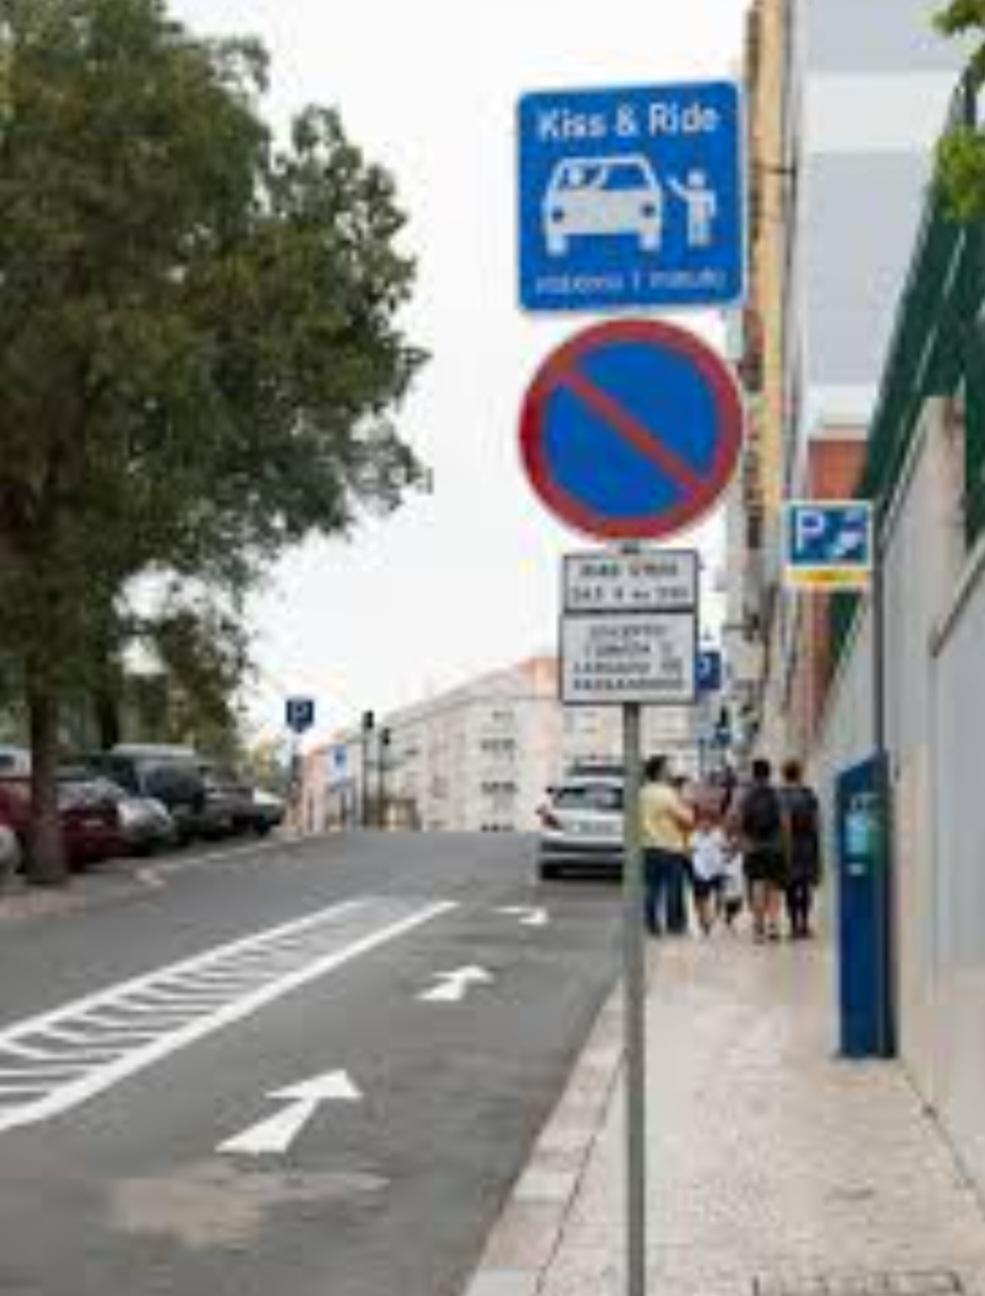estacionamento proibido: (503, 328, 770, 550)
zona de estacionamento autorizado: (280, 690, 323, 739)
